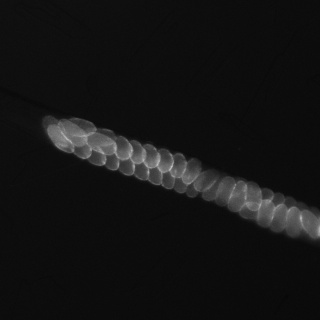embryo: (43, 116, 71, 147), (46, 124, 74, 153), (59, 119, 87, 146), (85, 132, 116, 156), (202, 173, 226, 201), (228, 180, 247, 213), (63, 118, 95, 137), (193, 169, 218, 193), (215, 176, 235, 206), (86, 128, 116, 147), (284, 206, 302, 237), (256, 199, 275, 227), (270, 203, 288, 232), (182, 158, 201, 185), (244, 182, 261, 211), (143, 144, 159, 168), (239, 202, 260, 220), (171, 153, 186, 178), (116, 136, 131, 160), (130, 140, 145, 164), (158, 149, 173, 173), (72, 141, 91, 159), (88, 150, 105, 165), (119, 159, 134, 175), (134, 163, 148, 180), (149, 168, 162, 185), (162, 171, 174, 189), (105, 154, 118, 170), (174, 178, 187, 193), (294, 202, 310, 214), (284, 197, 298, 210), (185, 184, 198, 197), (261, 188, 273, 200), (273, 193, 285, 205)
